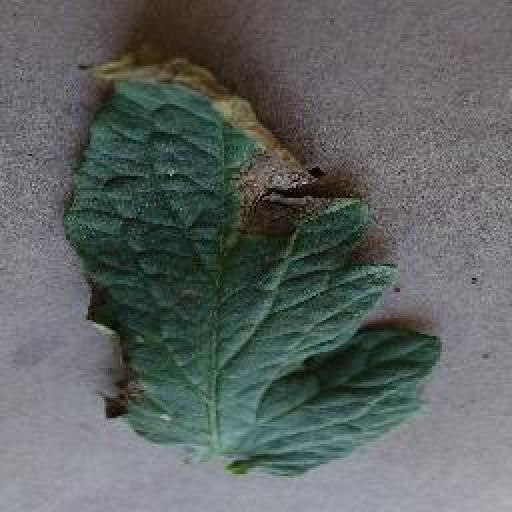Early Blight: (55, 49, 443, 484)
